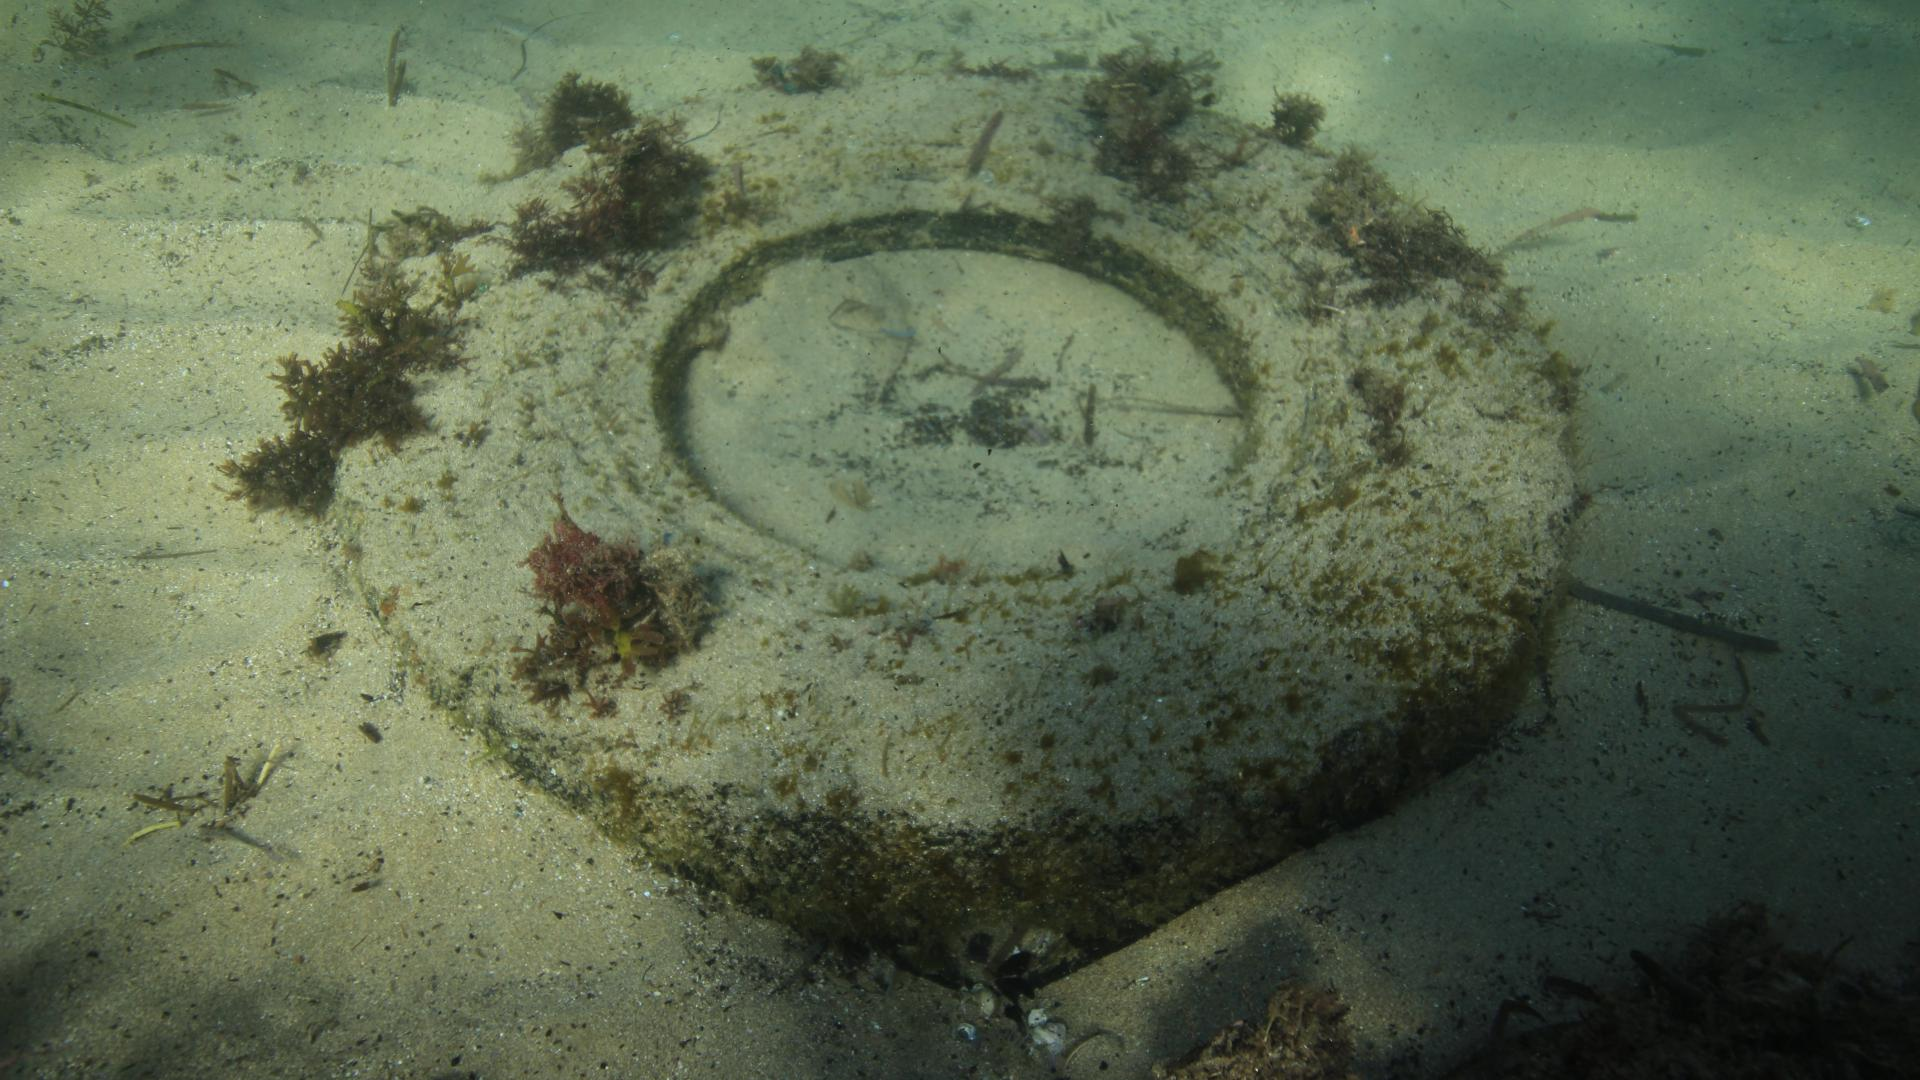tire: (331, 69, 1582, 964)
